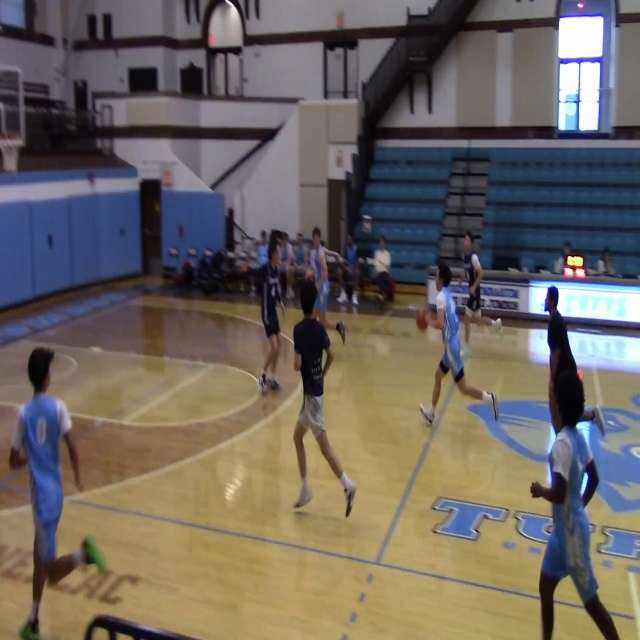Basketball: (416, 309, 428, 330), (455, 305, 466, 315)
